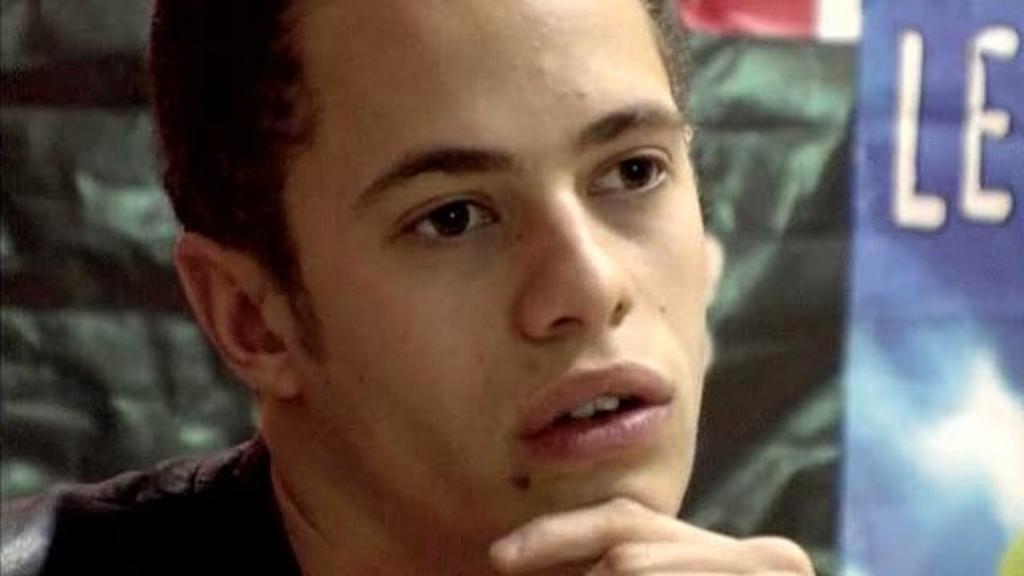face: (291, 3, 707, 545)
